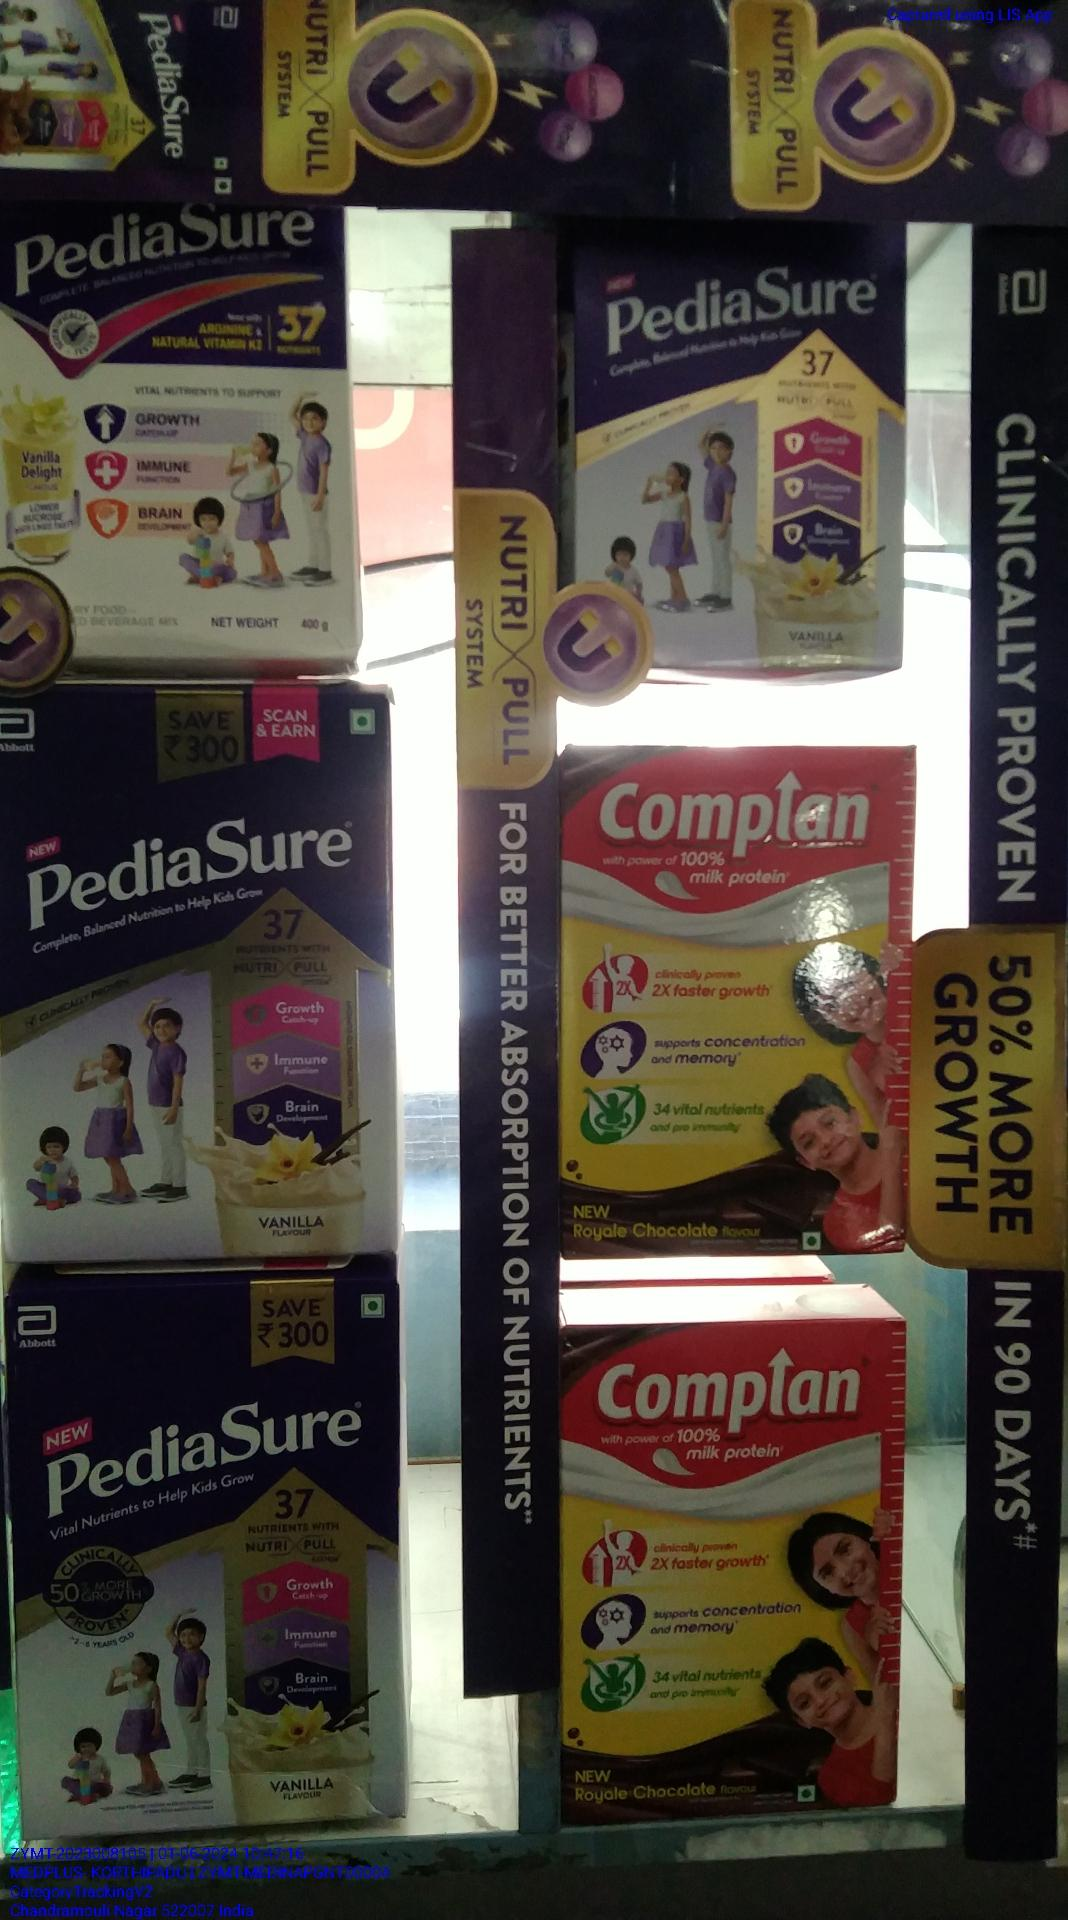COMPLAN_CHOCOLATE_500_GMS_PACK: (566, 747, 913, 1289), (562, 1330, 908, 1821)
PEDIASURE_VANILLA_500_G_PACK: (0, 684, 391, 1253), (1, 1276, 385, 1819), (577, 229, 894, 660)
